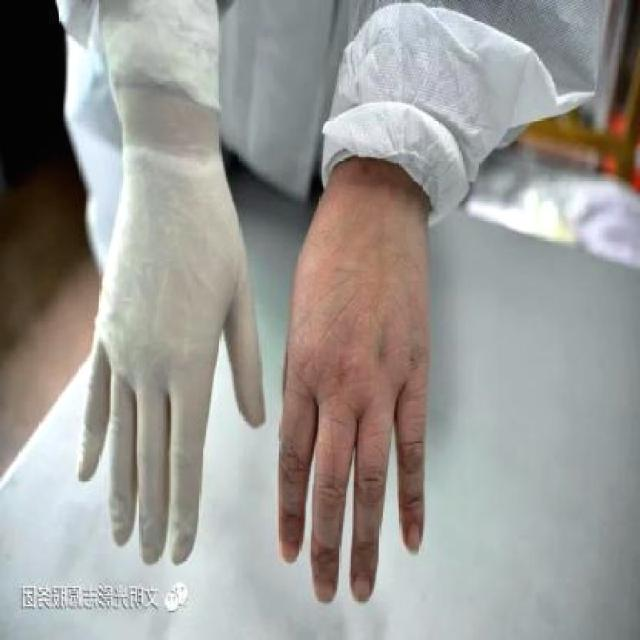hand_glove: (68, 181, 266, 570)
hand_noglove: (276, 192, 432, 608)
